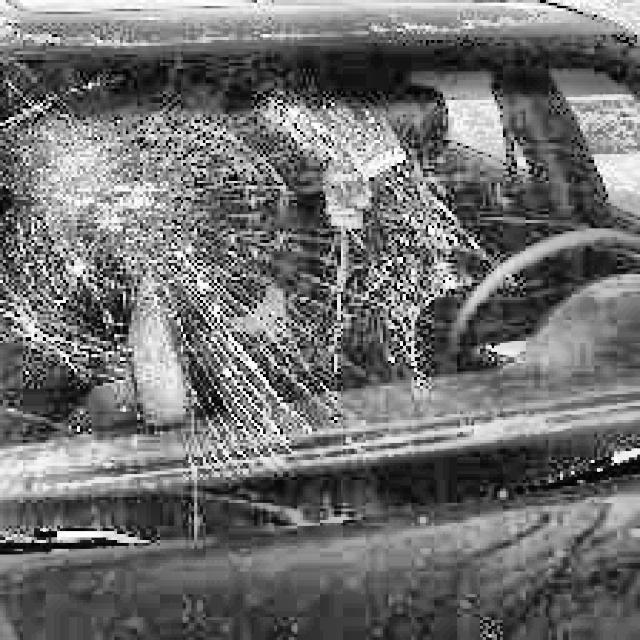glass_shatter: (283, 110, 496, 353), (18, 120, 226, 315)
